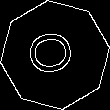O_E: (27, 30, 83, 80)
